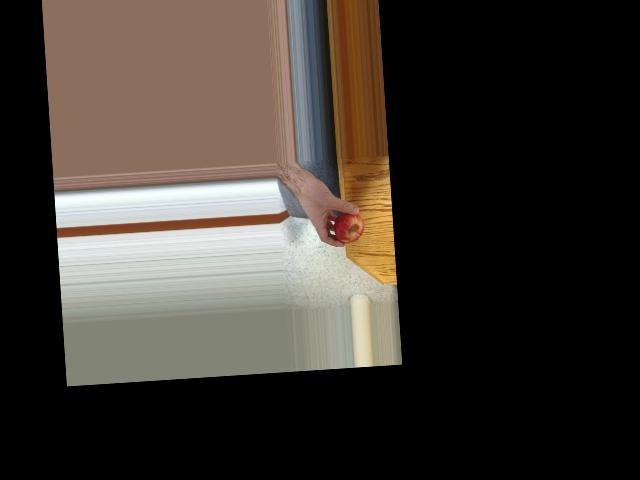apple: (330, 208, 364, 245)
